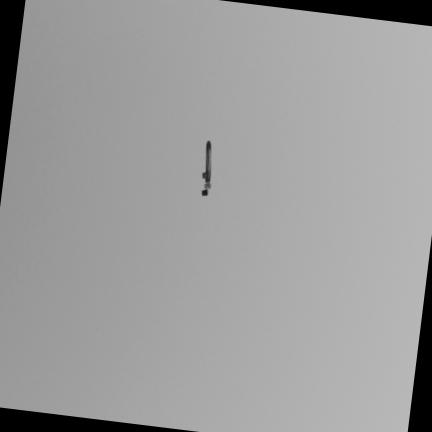Shahed: (201, 139, 211, 195)
